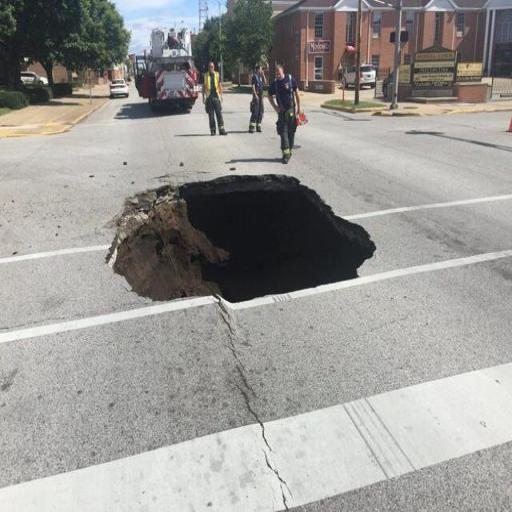Concentric_Crack: (109, 175, 375, 301)
